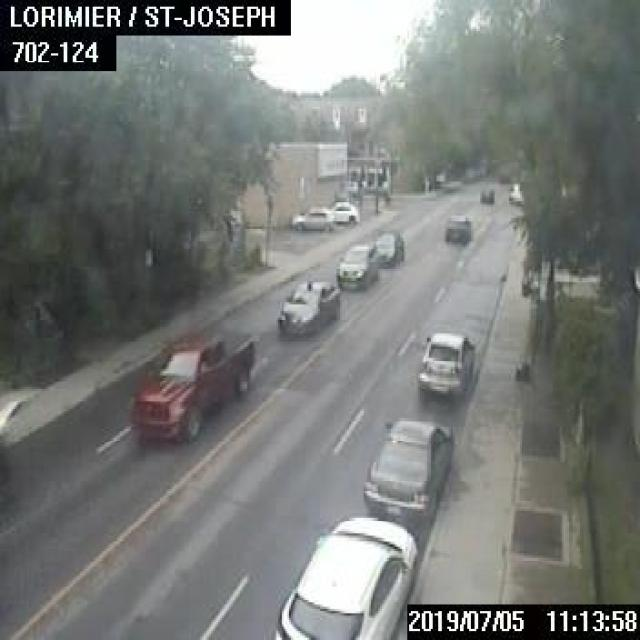vehicle: (273, 515, 417, 638), (131, 332, 253, 436), (361, 416, 452, 521), (415, 330, 473, 396), (275, 279, 340, 336), (335, 243, 376, 288), (373, 229, 403, 266), (291, 205, 332, 231), (443, 213, 471, 243), (330, 200, 358, 223), (507, 183, 522, 202), (478, 185, 493, 202)
